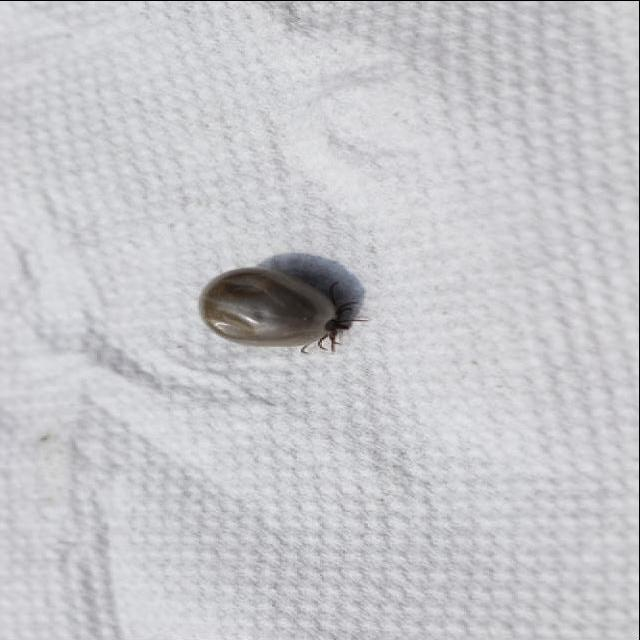Ixodes Ricinus-F-Fed: (200, 261, 371, 355)
